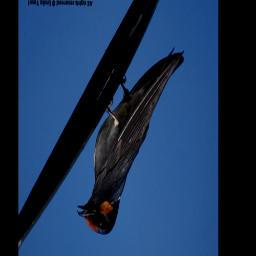Swallow: (77, 51, 185, 236)
